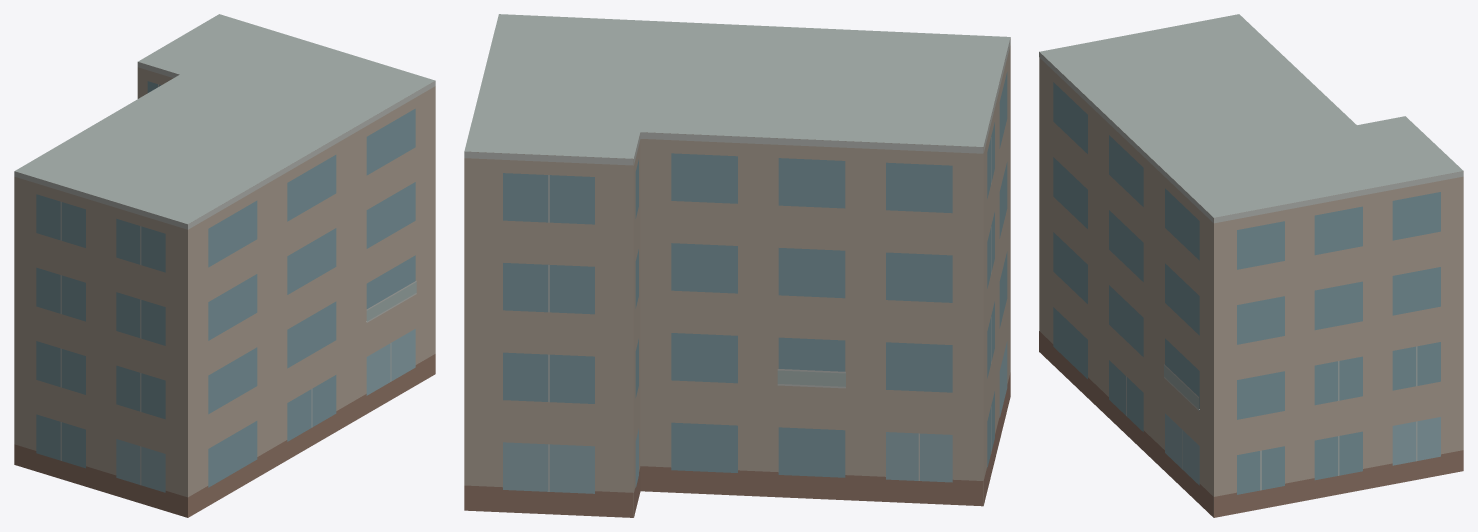
Rendered from survey-upis-32696687.glb.
3 views of the same model, side by side, from view 1: azimuth 30°, elevation 25°; view 2: azimuth 150°, elevation 25°; view 3: azimuth 270°, elevation 25° (orthographic). The views are drawn at different scales.
Visible parts, largest first — view 1: survey-upis-32696687.tmp; view 2: survey-upis-32696687.tmp; view 3: survey-upis-32696687.tmp.
Boxes of the visible parts, bbox=[...] form: survey-upis-32696687.tmp: bbox=[14, 14, 435, 517]; survey-upis-32696687.tmp: bbox=[464, 14, 1010, 517]; survey-upis-32696687.tmp: bbox=[1039, 14, 1463, 517].
Bounding box in the file's own units: 19.09 × 13.1 × 16.8.
